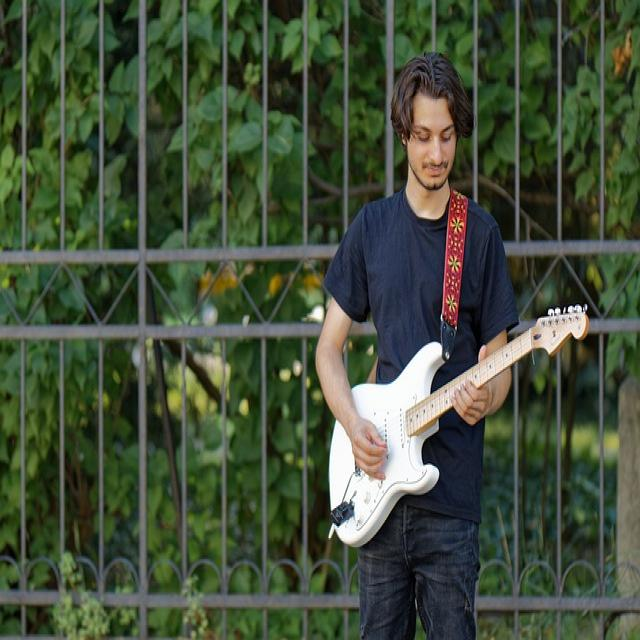Real human 2: (298, 36, 599, 640)
